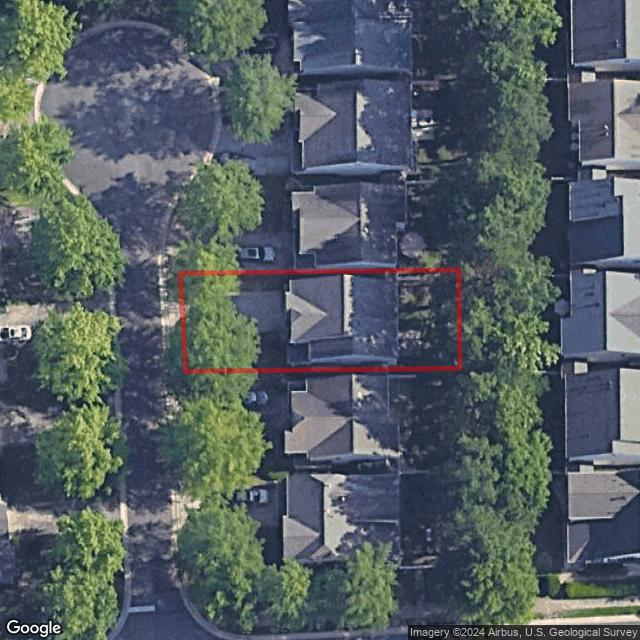Driveway: (181, 291, 289, 334)
Extra-Driveway: (167, 302, 184, 338)
Extra-Lawn: (168, 335, 185, 373), (166, 272, 182, 303)
House: (286, 274, 400, 366)
Lawn: (180, 270, 460, 373)
